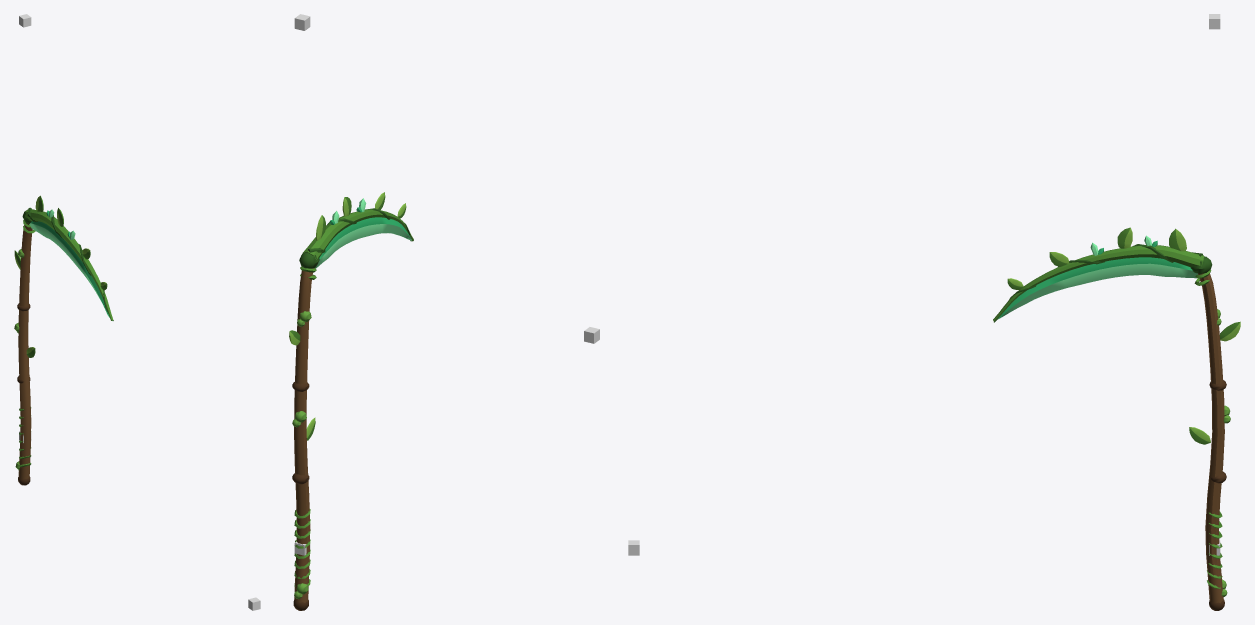
Rendered from MossScythe.fbx.
3 renders of one model, left to right at view 1: azimuth 30°, elevation 25°; view 2: azimuth 150°, elevation 25°; view 3: azimuth 270°, elevation 25°, orthographic. The views are drawn at different scales.
Visible parts, largest first — view 1: Body, Glow; view 2: Body, Glow; view 3: Body, Glow.
Part boxes in pixels (left/top/right/bottom): Body: left=14, top=195, right=113, bottom=485; Glow: left=29, top=209, right=109, bottom=317; Body: left=289, top=192, right=413, bottom=610; Glow: left=315, top=198, right=411, bottom=268; Body: left=993, top=227, right=1240, bottom=610; Glow: left=997, top=235, right=1198, bottom=319.
Size of the model in its own units: 0.34 by 11.29 by 10.55.
1 material, 1 textured.
